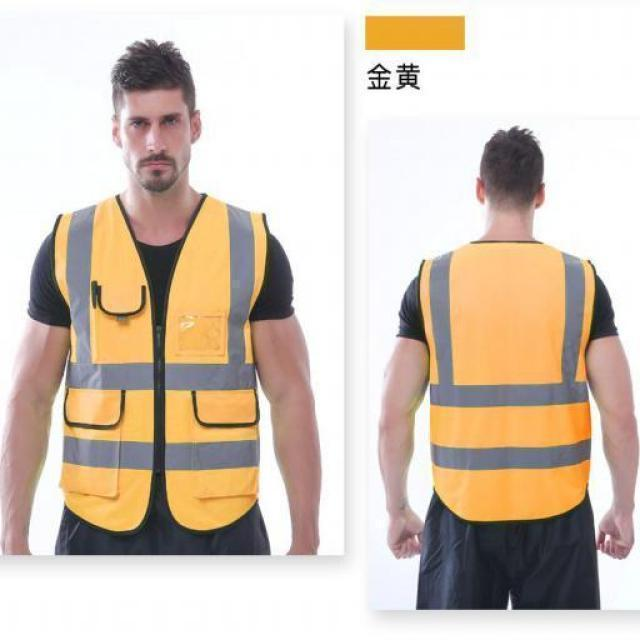safety_vest: (51, 186, 276, 536), (418, 238, 610, 520)
